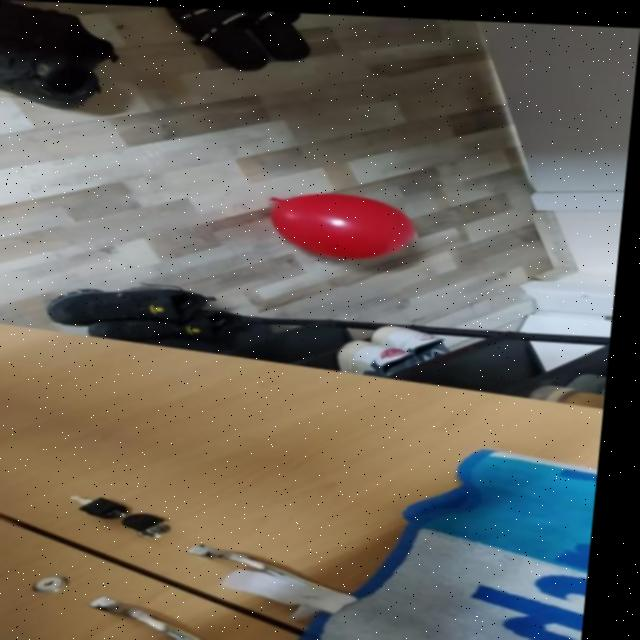balloon: (255, 178, 436, 265)
